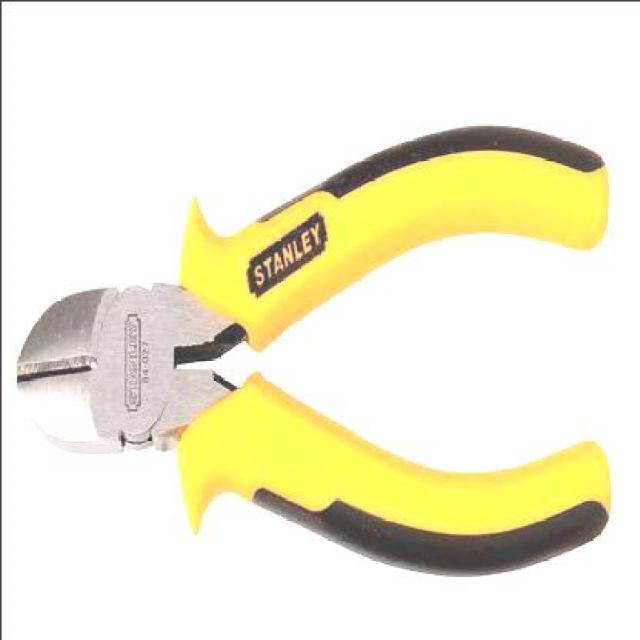pliers: (18, 110, 614, 586)
